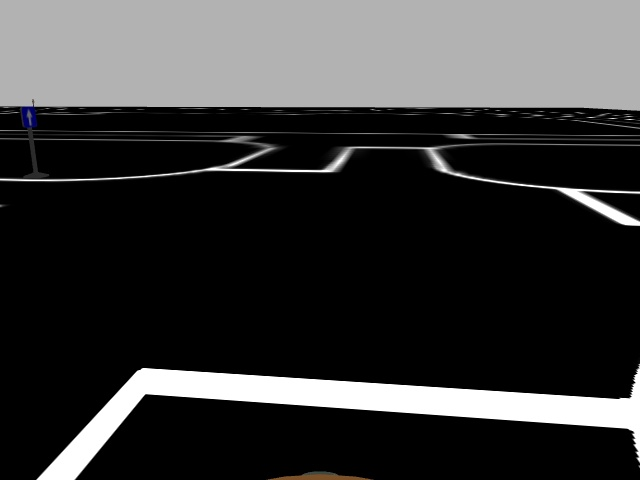oneway: (22, 105, 38, 130)
